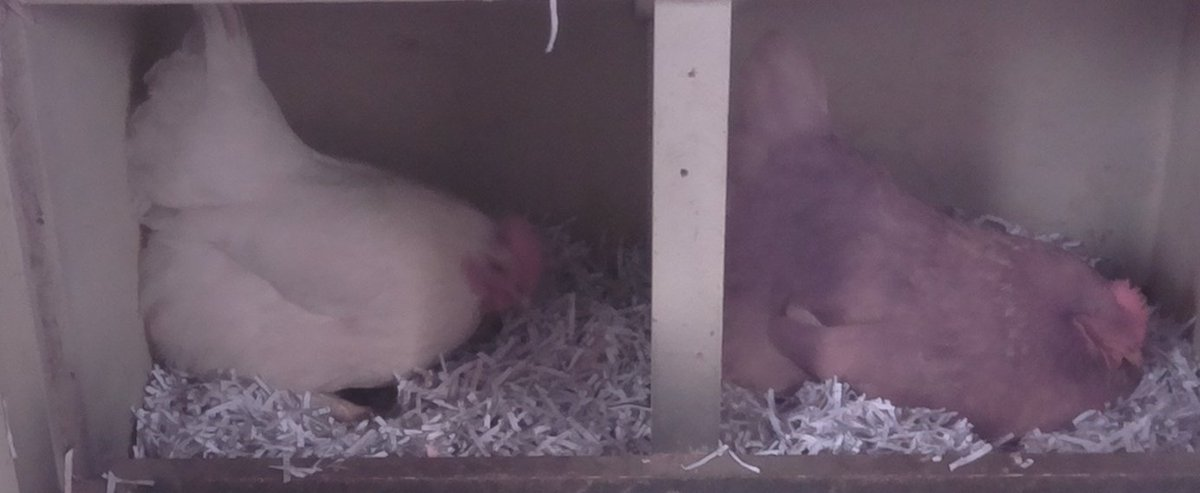hen: (736, 31, 1160, 449), (114, 6, 555, 401)
